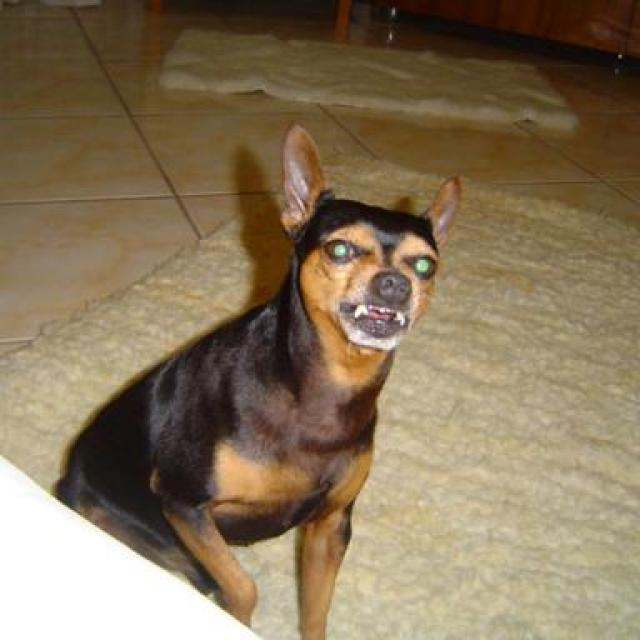angry: (49, 82, 468, 640)
